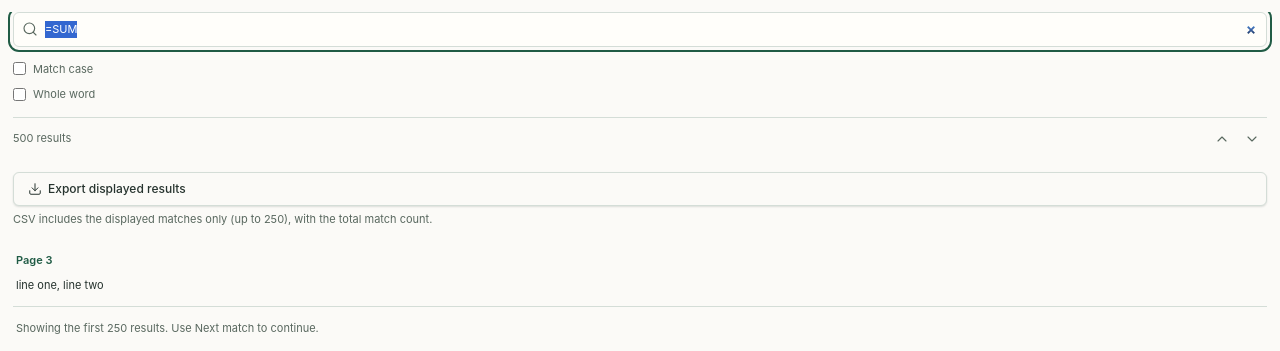
Test case: cannot label old results with a newly typed query during the debounce
Replace the text in the search field named "Search document" with "different" at (640, 29), box [13, 12, 1267, 46]
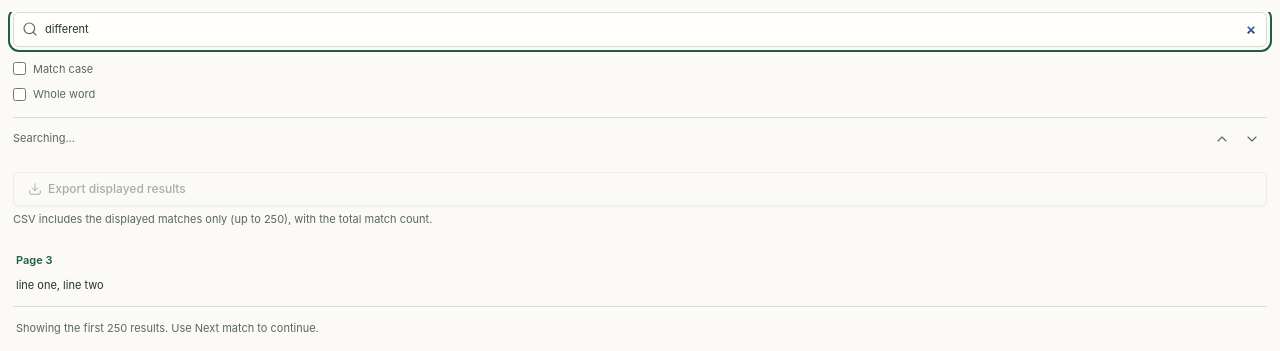
Result: the button "Export displayed results" is disabled at [13, 172, 1267, 206]
